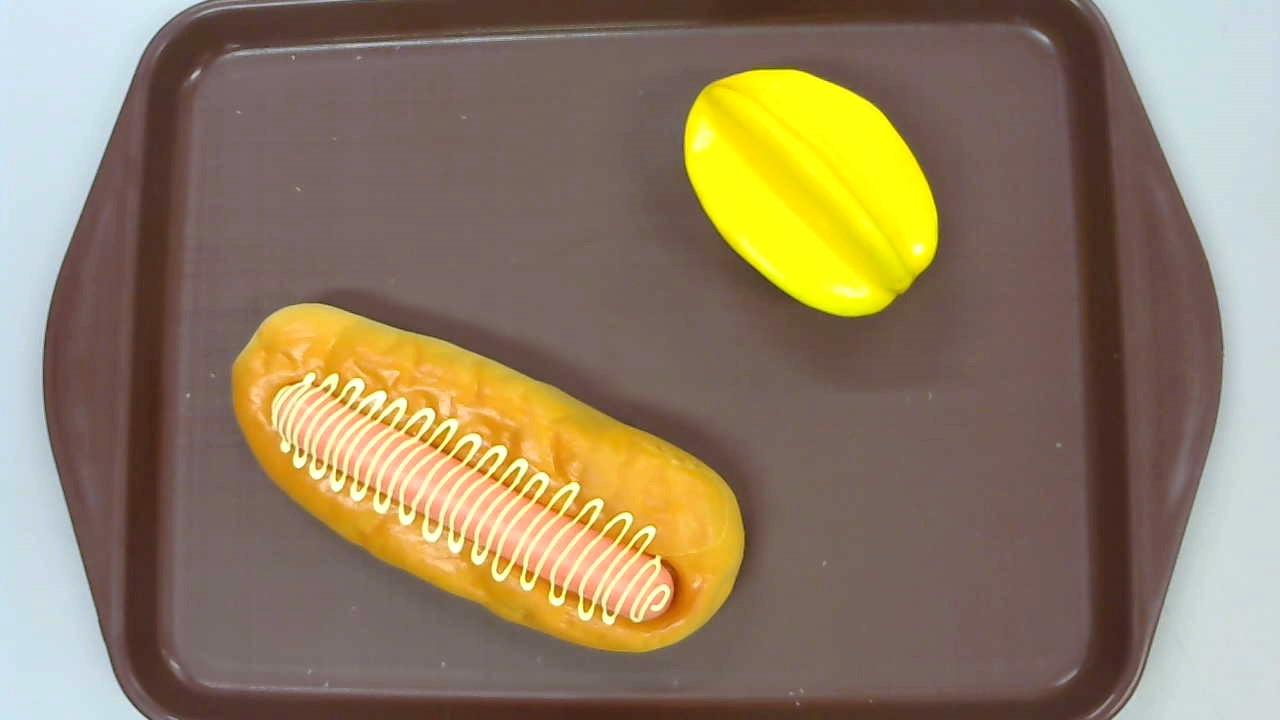hot dog: (228, 301, 745, 653)
star fruit: (683, 68, 940, 318)
